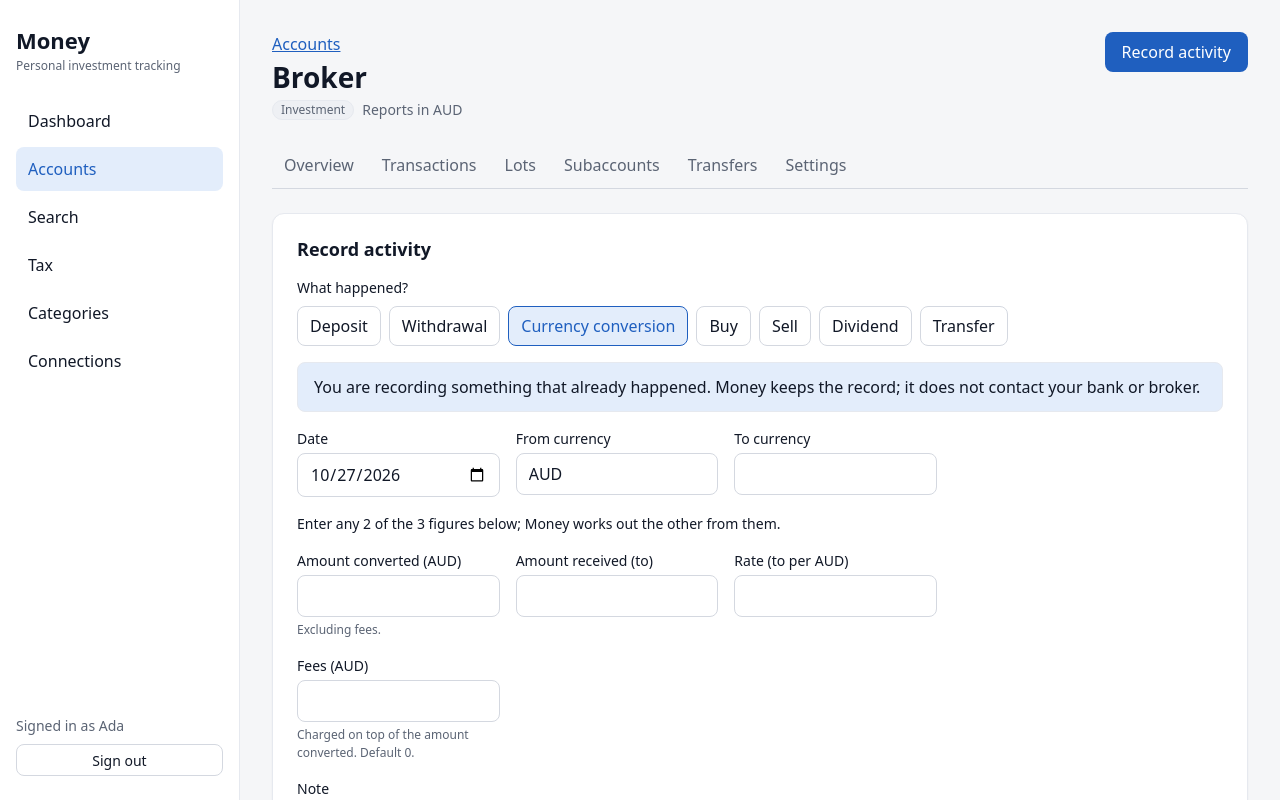
Scenario: recording activity › records an FX conversion from an amount and a rate
The width and height of the screenshot is (1280, 800).
Type "usd" into the field labelled "To currency" at (836, 474), box left=734, top=452, right=937, bottom=494
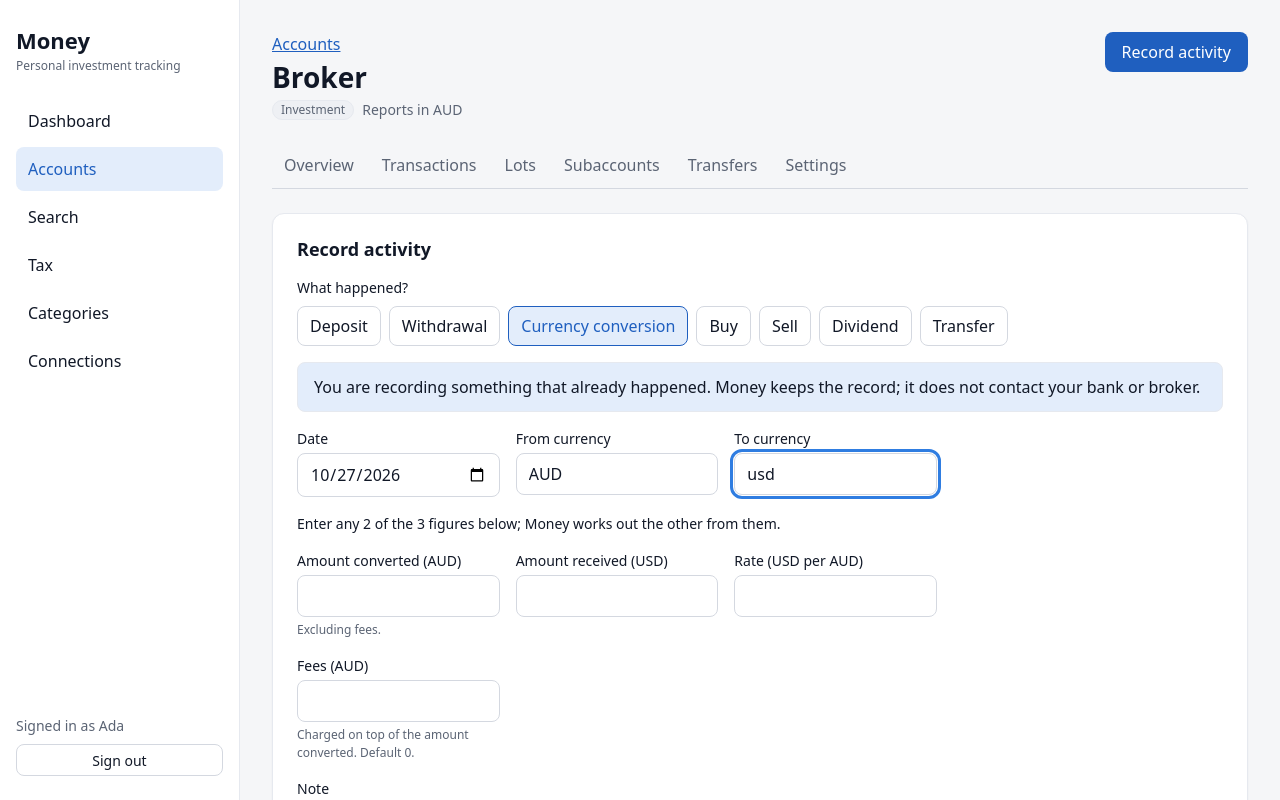
Type "1000" into the field labelled "Amount converted (AUD)" at (398, 596), box left=297, top=574, right=500, bottom=616
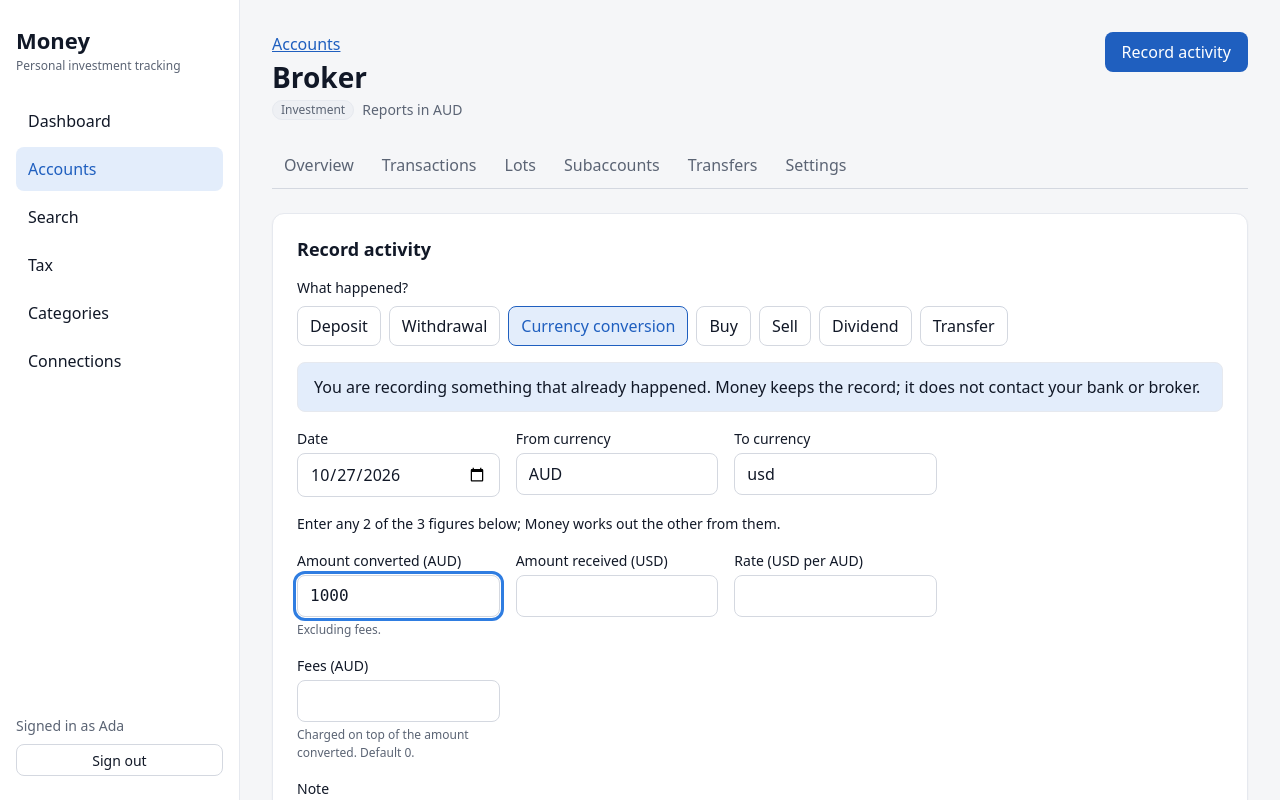
Type "0.65" into the field labelled "Rate (USD per AUD)" at (836, 596), box left=734, top=574, right=937, bottom=616
(page scrolled)
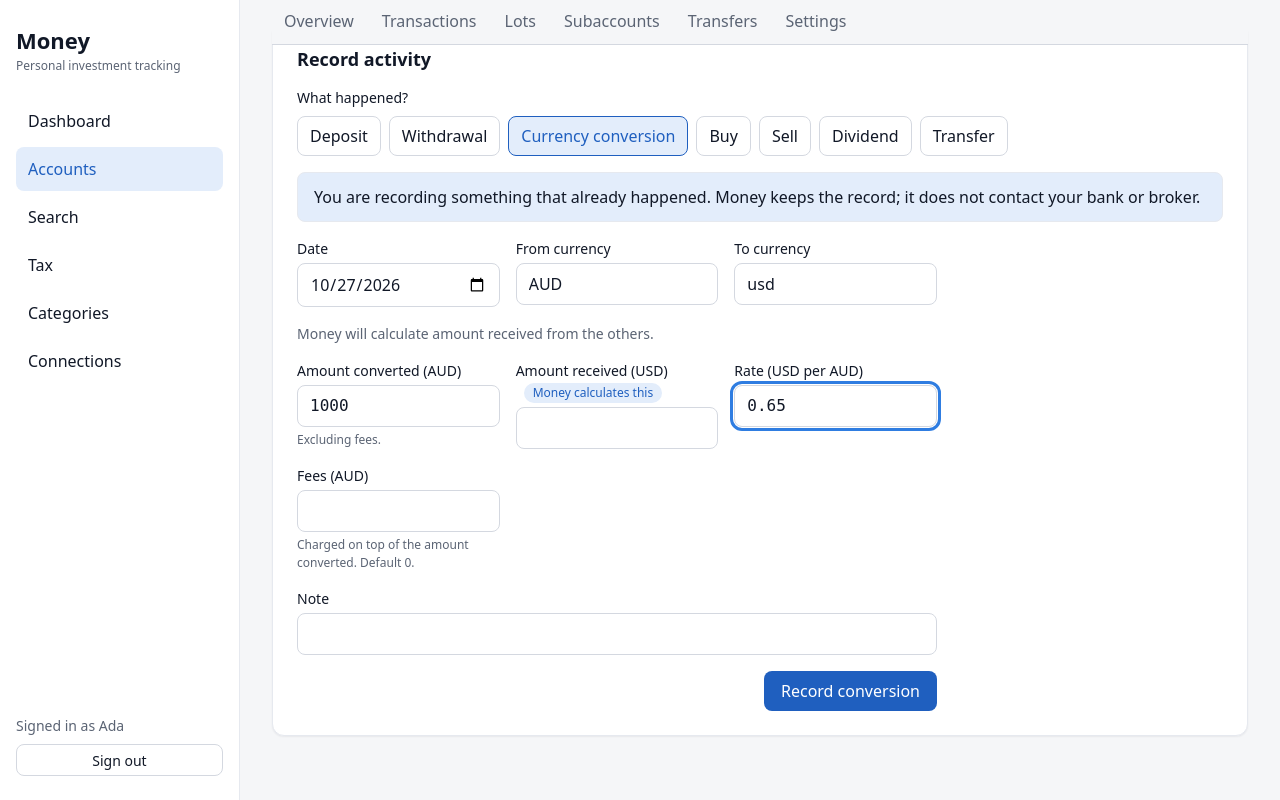
Click the button "Record conversion" at (850, 690), box left=764, top=670, right=937, bottom=710
(page scrolled)
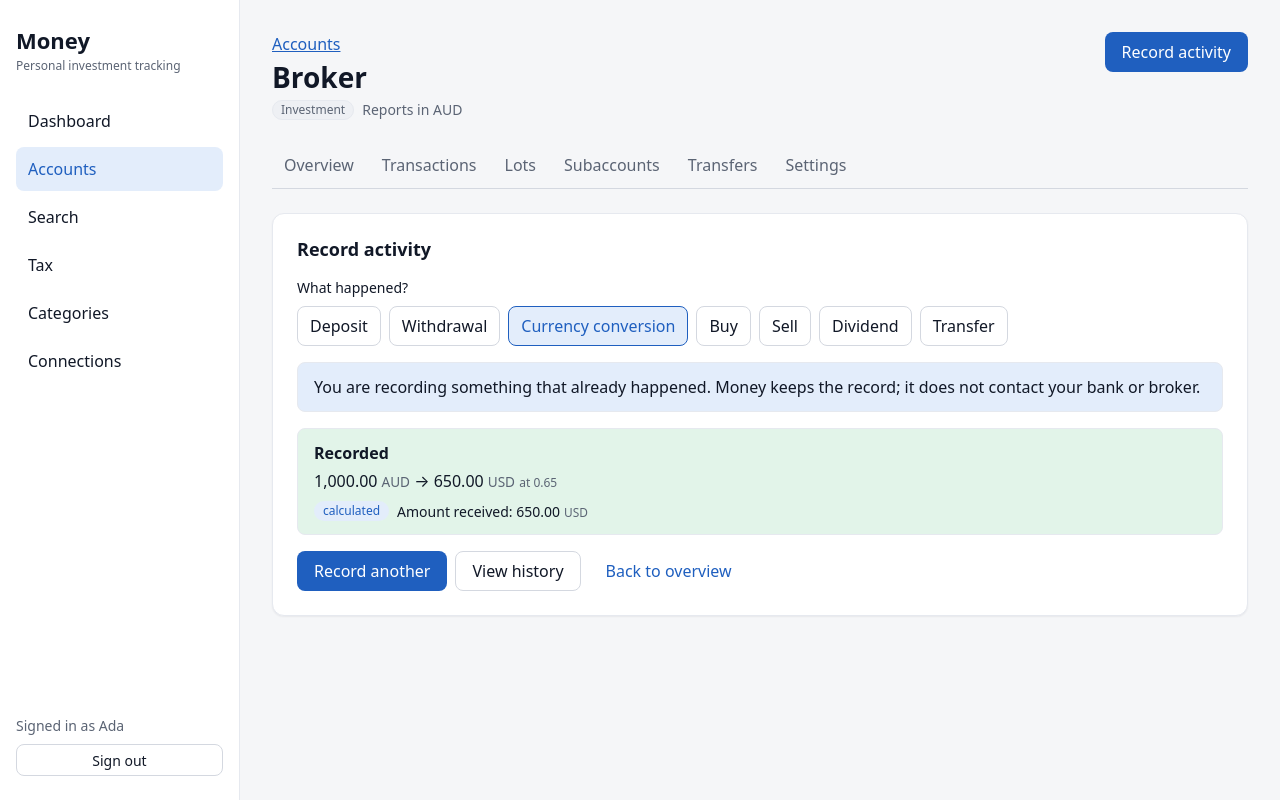
expect the text "Recorded" is shown: met, box left=314, top=442, right=389, bottom=464
expect the text "Amount received: 650.00USD" is shown: met, box left=397, top=500, right=588, bottom=522
